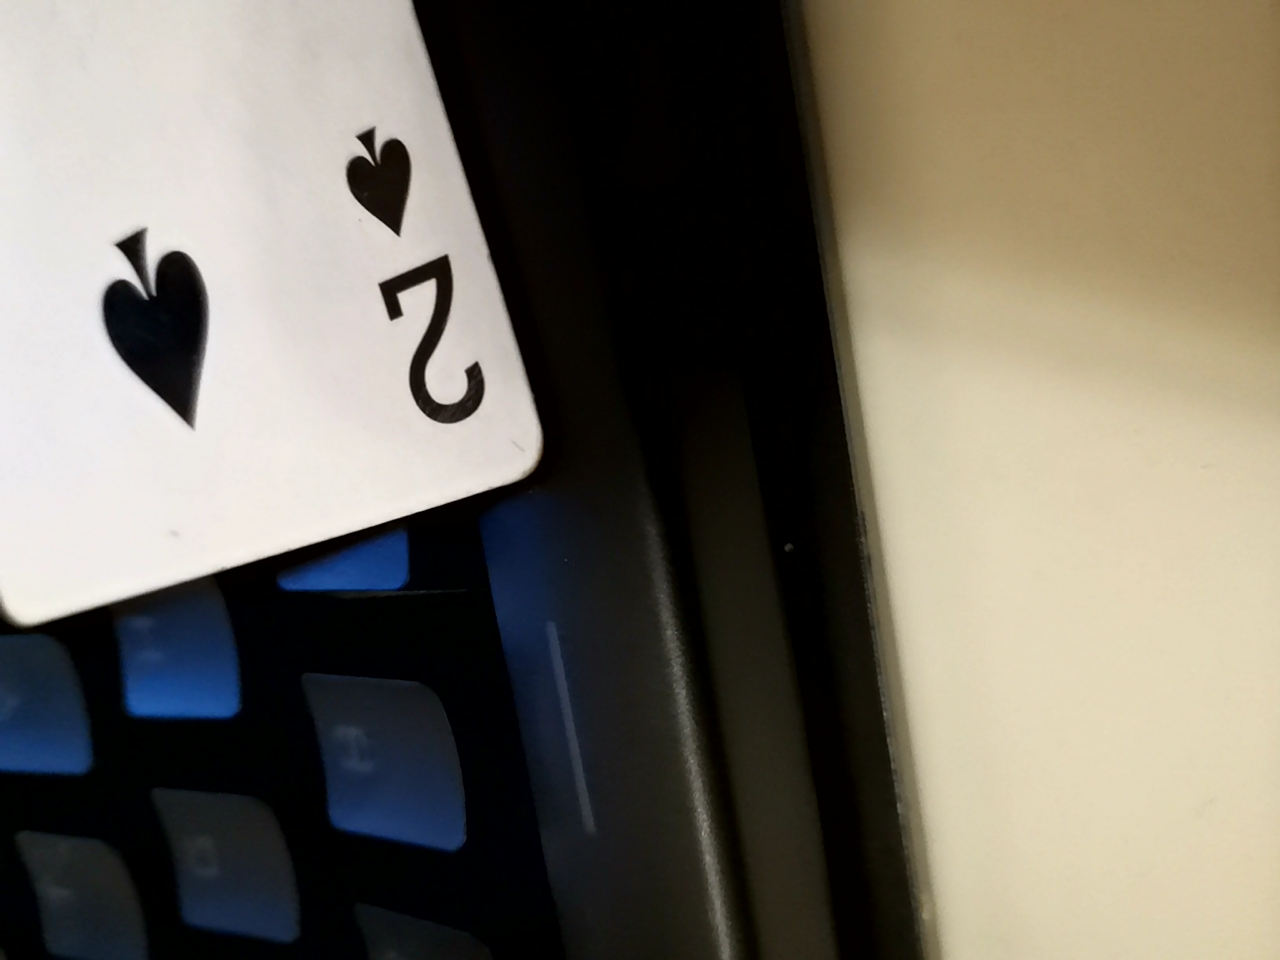ht 2: (3, 0, 561, 656)
